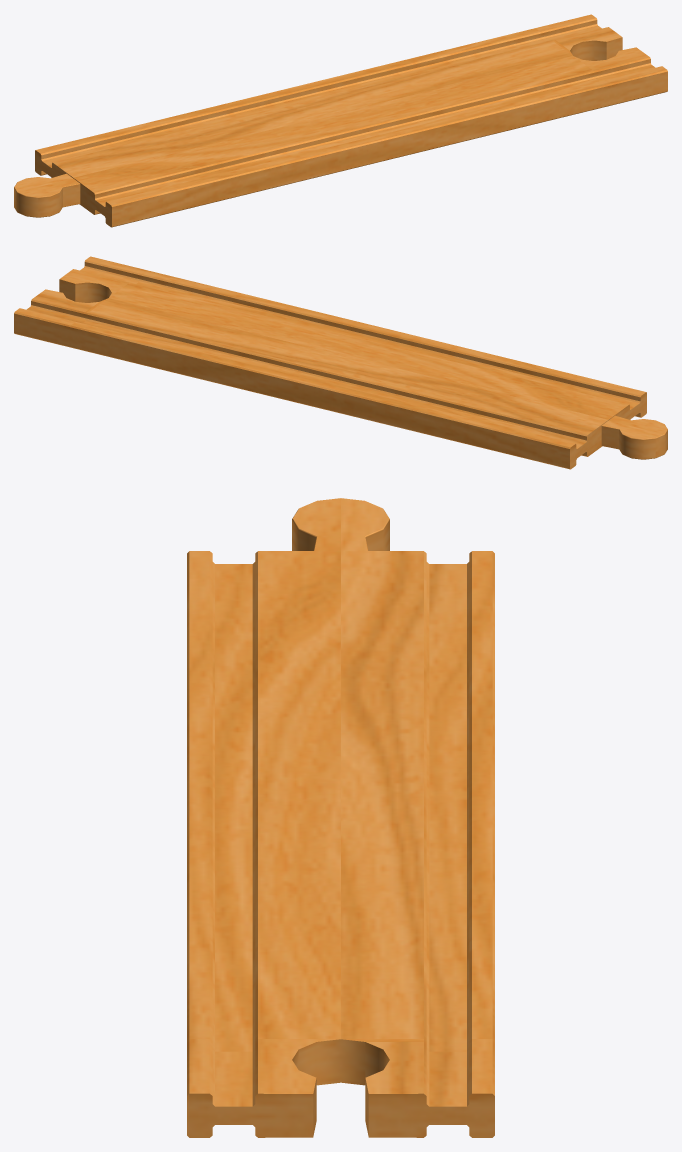
The model's file is WoodenStraitTrack.fbx.
The picture shows the model from 3 angles, top to bottom: view 1: azimuth 30°, elevation 25°; view 2: azimuth 150°, elevation 25°; view 3: azimuth 270°, elevation 25°; orthographic projection. The views are drawn at different scales.
Parts seen in each view (by area): view 1: TrackStrait; view 2: TrackStrait; view 3: TrackStrait.
Boxes of the visible parts, <box> form: TrackStrait: <box>14,14,667,227</box>; TrackStrait: <box>14,256,667,469</box>; TrackStrait: <box>187,498,494,1137</box>.
Bounding box in the file's own units: 11.01 × 0.3786 × 2.4.
